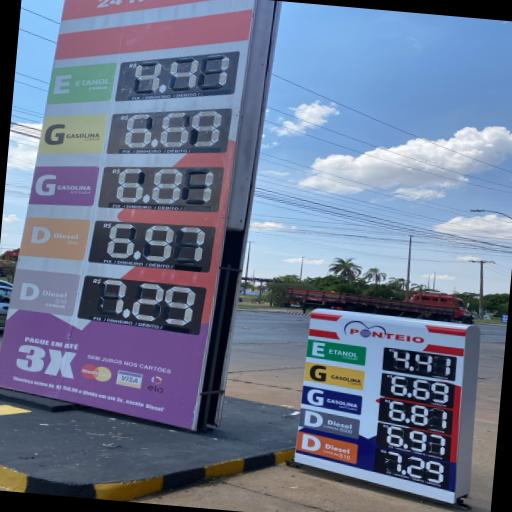ETANOL: (47, 63, 115, 104), (306, 340, 366, 366)
GASOLINA AD: (31, 167, 99, 206), (301, 386, 362, 414)
GASOLINA C: (39, 114, 110, 153), (304, 362, 364, 390)
S10: (11, 268, 78, 315), (297, 432, 358, 465)
S500: (24, 218, 89, 260), (301, 409, 359, 439)
placa: (8, 18, 253, 347), (292, 317, 463, 504)
preco: (84, 276, 203, 334), (95, 221, 213, 269), (132, 52, 234, 99), (112, 168, 222, 210), (120, 109, 227, 150), (384, 449, 447, 487), (382, 426, 449, 459), (386, 400, 451, 433), (387, 375, 453, 407), (391, 349, 456, 378)
